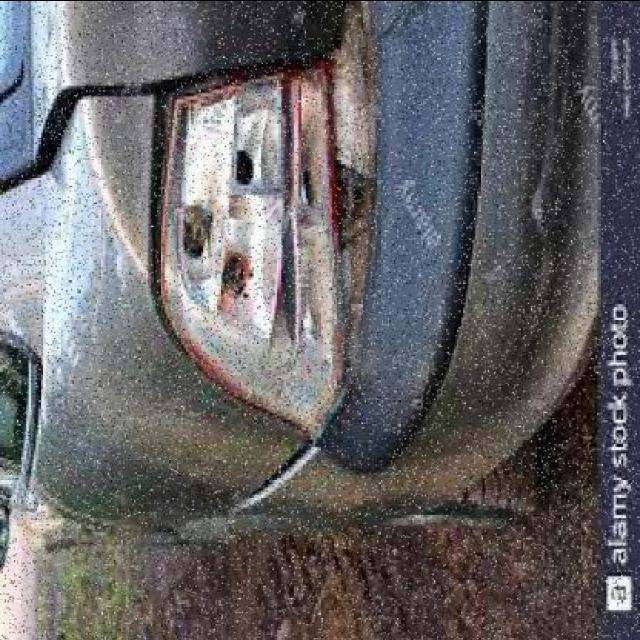Taillight-Damage: (120, 21, 471, 505)
